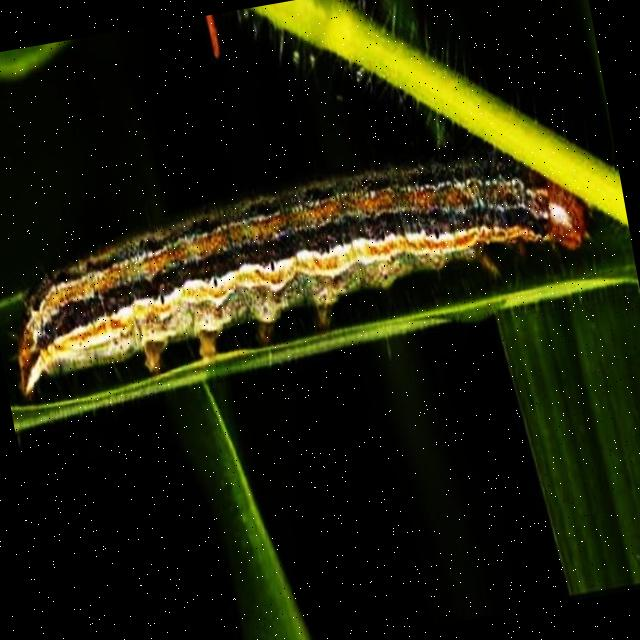worm: (1, 131, 605, 401)
